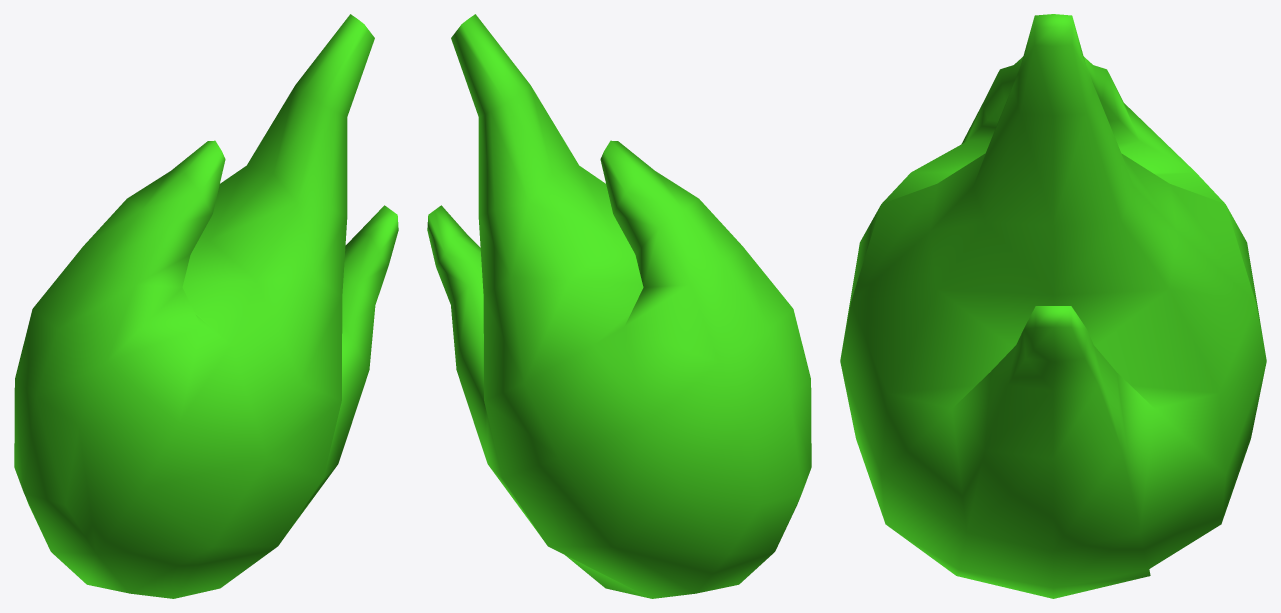
File: soul_3.FBX
3 renders of one model, left to right at view 1: azimuth 30°, elevation 25°; view 2: azimuth 150°, elevation 25°; view 3: azimuth 270°, elevation 25°, orthographic. The views are drawn at different scales.
Visible parts, largest first — view 1: Box003; view 2: Box003; view 3: Box003.
Part boxes in pixels (box(x1,y1,x2,y2)): Box003: box(14, 14, 398, 598); Box003: box(427, 14, 811, 598); Box003: box(840, 14, 1266, 598).
Size of the model in its own units: 45.31 by 61.19 by 33.78.
